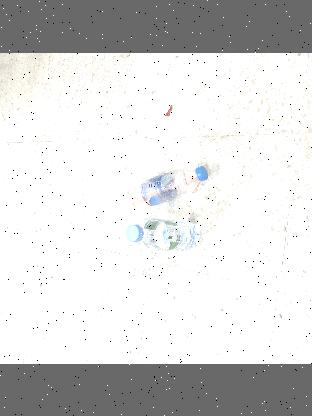Plastic Bottle: (114, 165, 208, 213), (125, 217, 203, 253)
